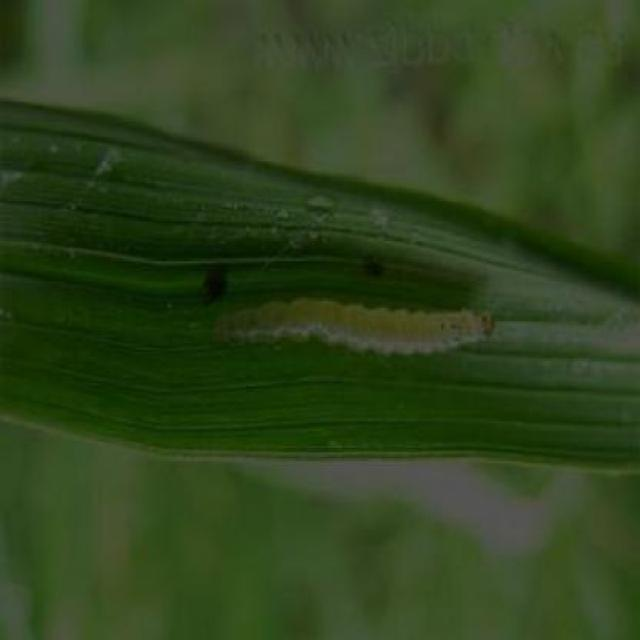leaf-folder: (220, 270, 489, 385)
